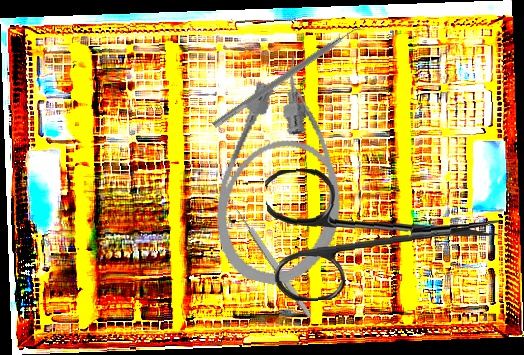Cannula: (200, 45, 374, 297)
Iris Scissors: (264, 159, 503, 303)
Spatula Surgical: (211, 20, 368, 135)
Surgical Spoon: (221, 189, 314, 319)
